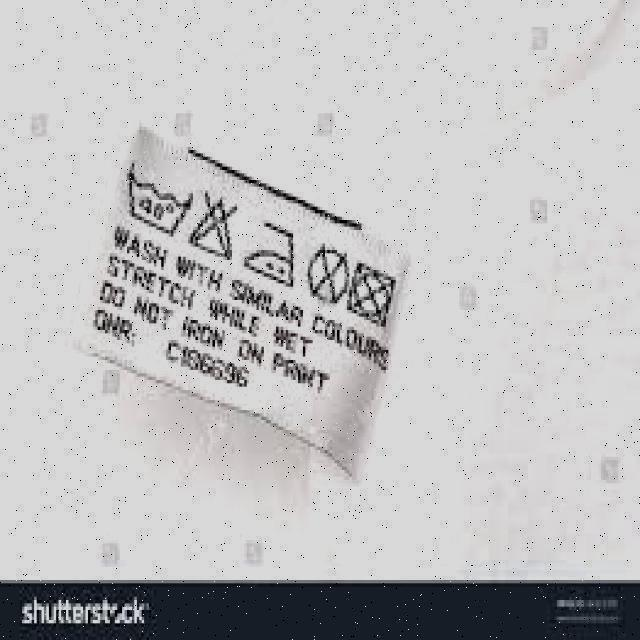40C: (125, 171, 195, 233)
DN_bleach: (191, 189, 238, 258)
DN_dry_clean: (304, 244, 350, 303)
DN_tumble_dry: (348, 260, 398, 329)
iron_medium: (243, 219, 300, 288)
